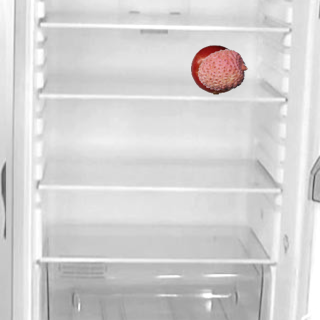Apple Braeburn: (190, 44, 240, 94)
Lychee: (197, 44, 247, 94)
